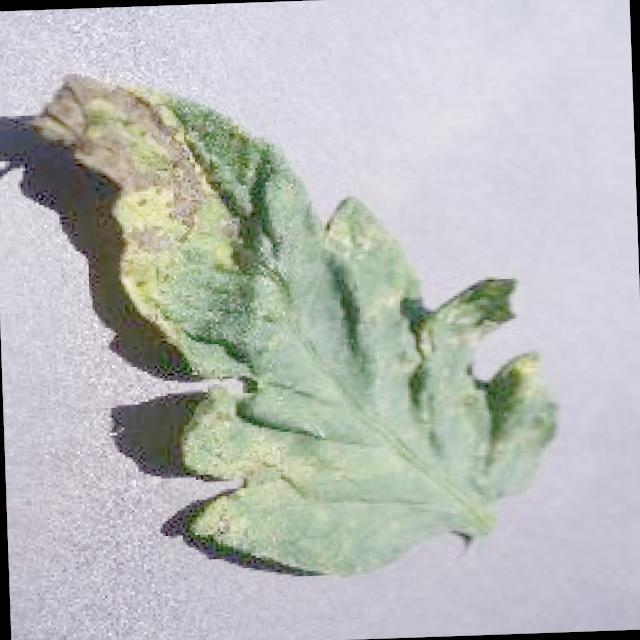Tomato Septoria spot leaf: (32, 59, 556, 583)
